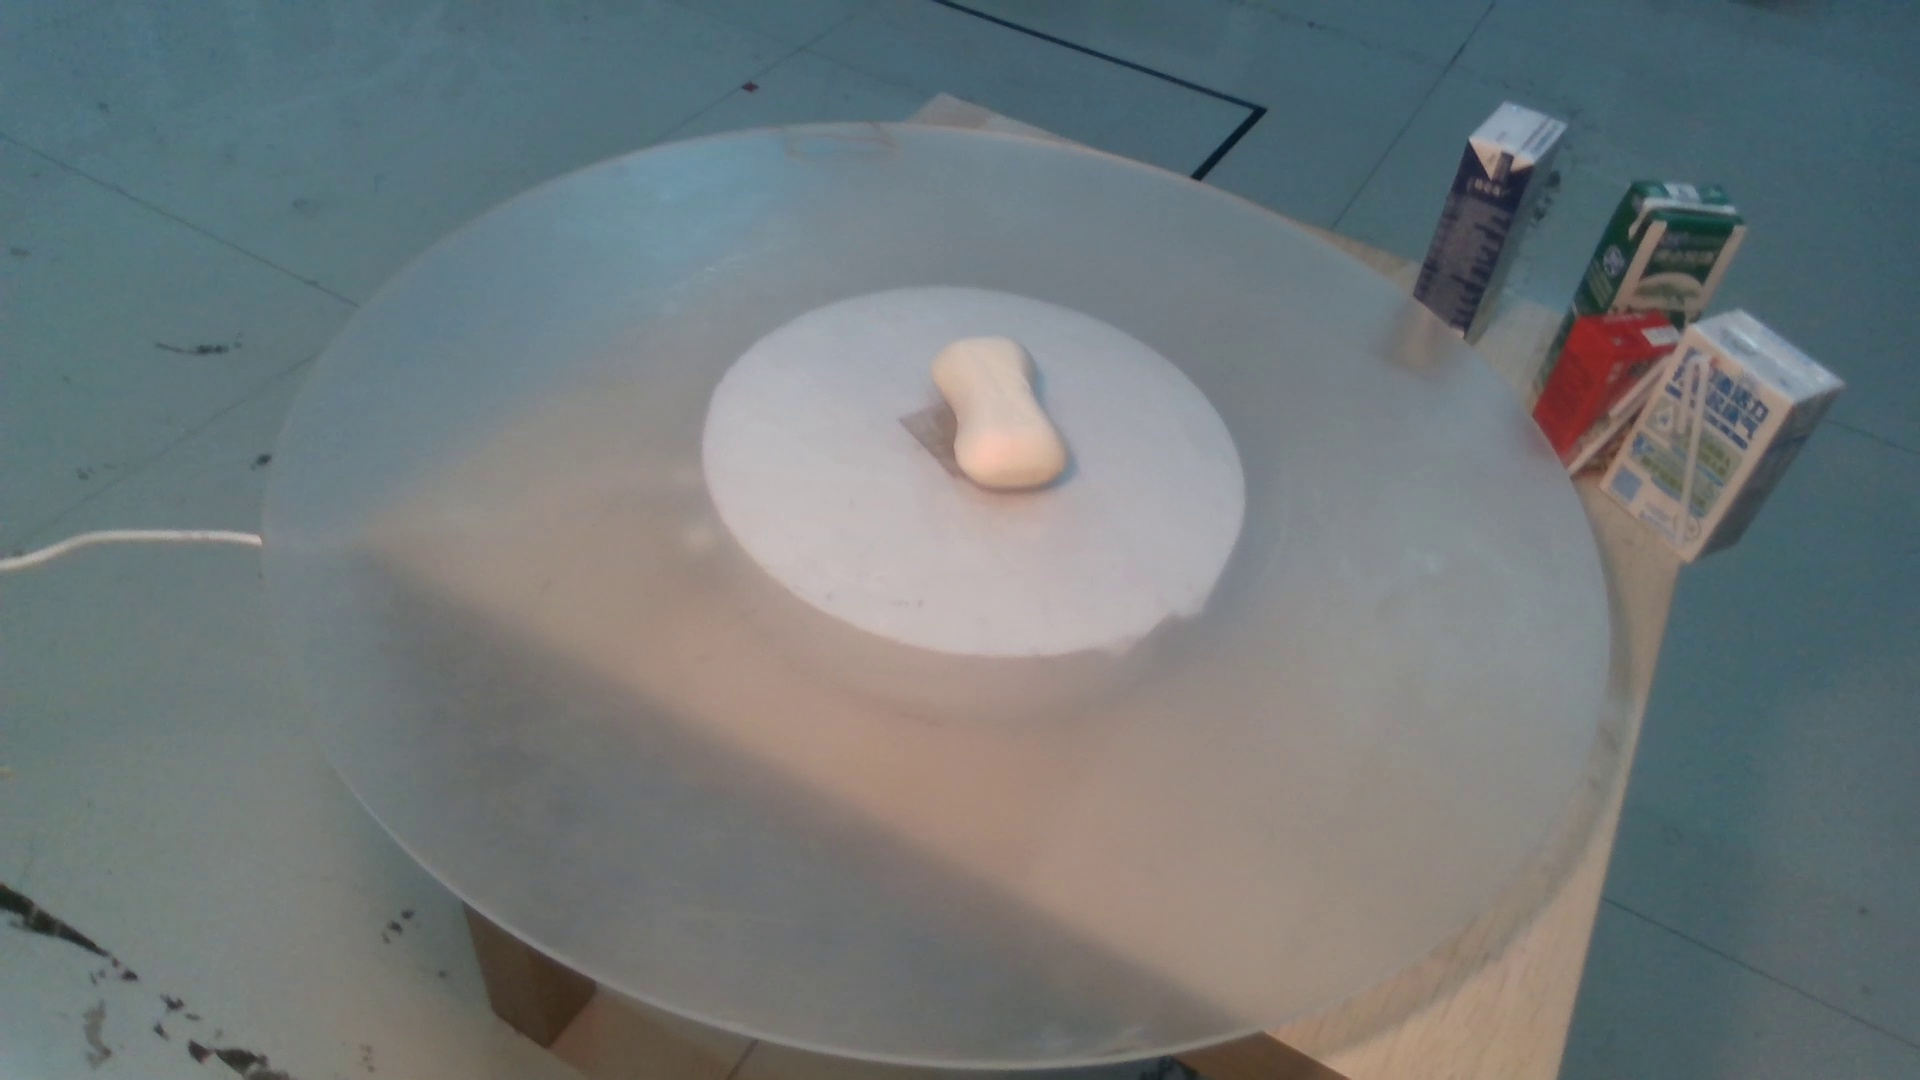CA003_1: (901, 326, 1091, 506)
